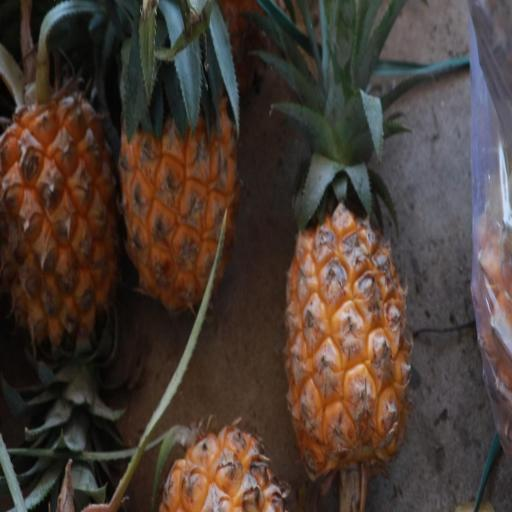Pineapple - v8 v1: (279, 123, 418, 484), (113, 13, 241, 326), (0, 70, 121, 395)
